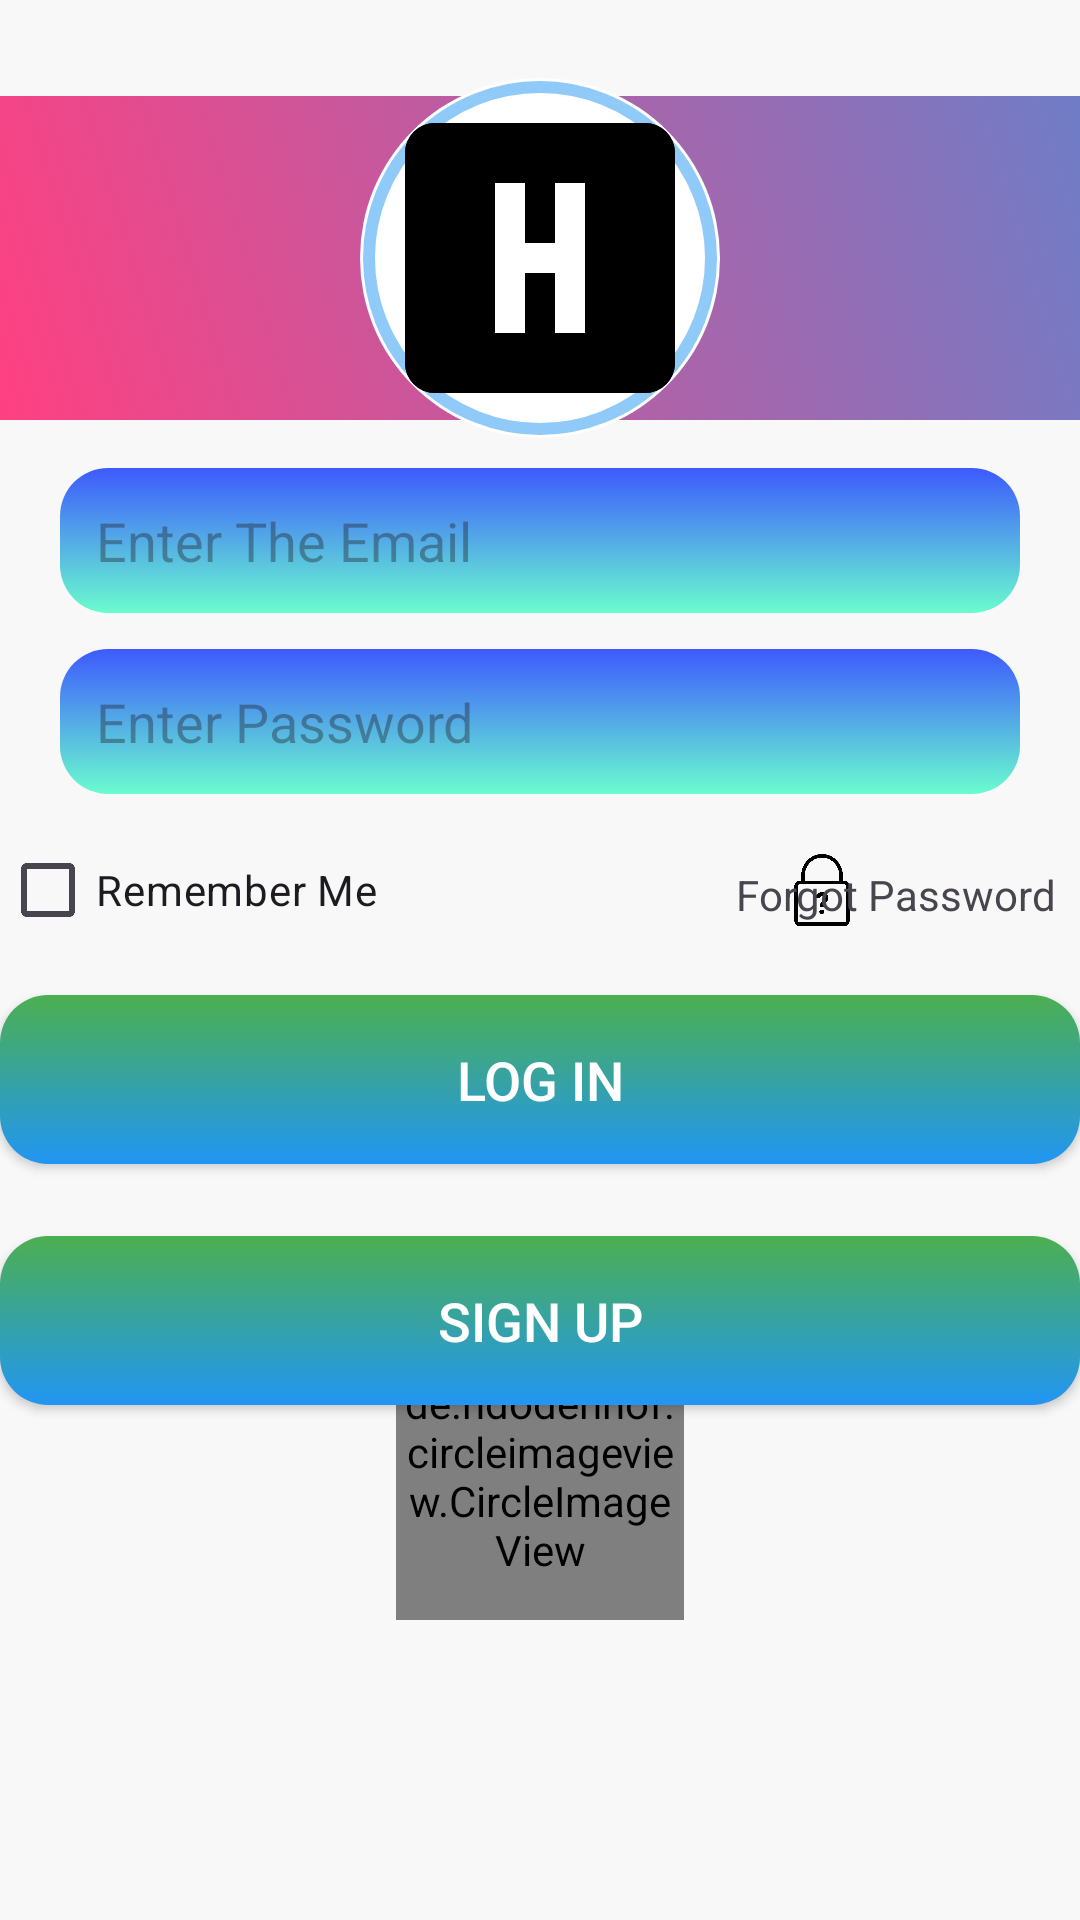

Point at icon controls on the screen. Image size 1080*1920, points as (x=x, y=y).
lock: (x=821, y=890)
